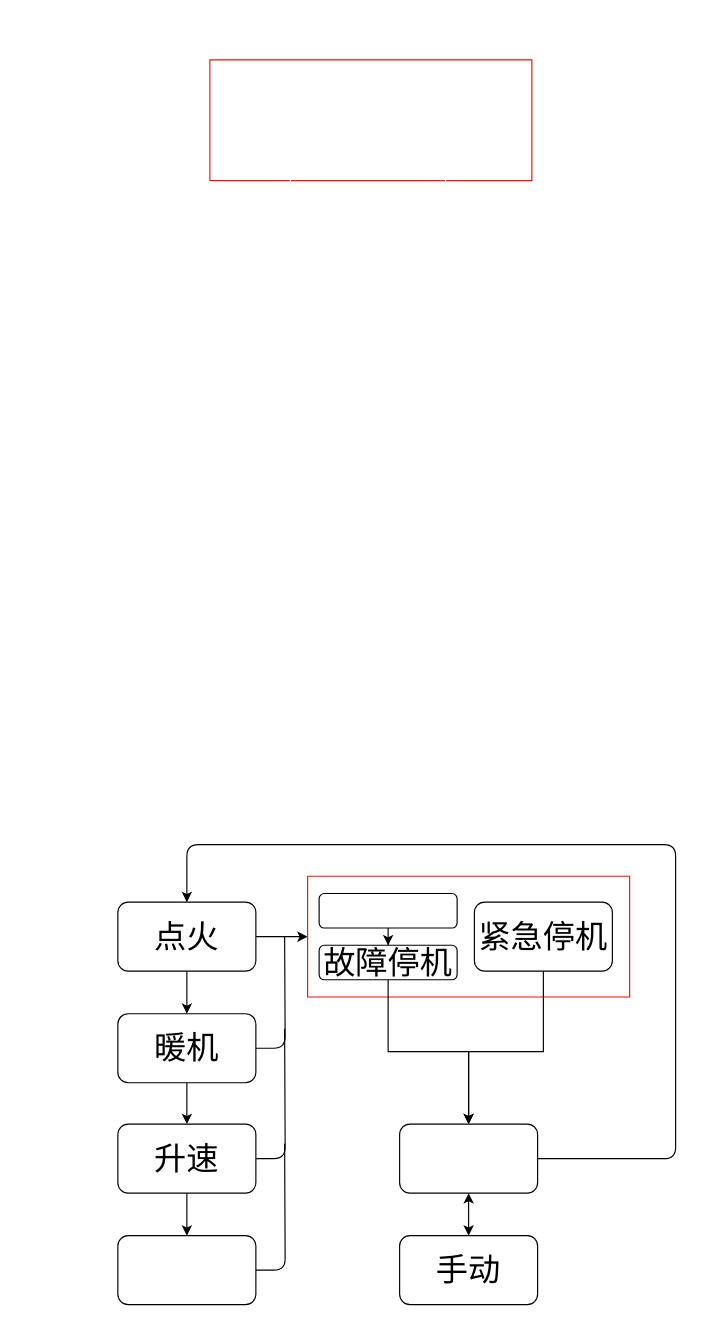
Image size: 705x1325. Some labels were removed from this diagram. Here are the shapes that lost their labels. From the top down, the centre of each, then its label:
the point at 387,910: 降速
the point at 468,1158: 待机
the point at 186,1270: 并网
